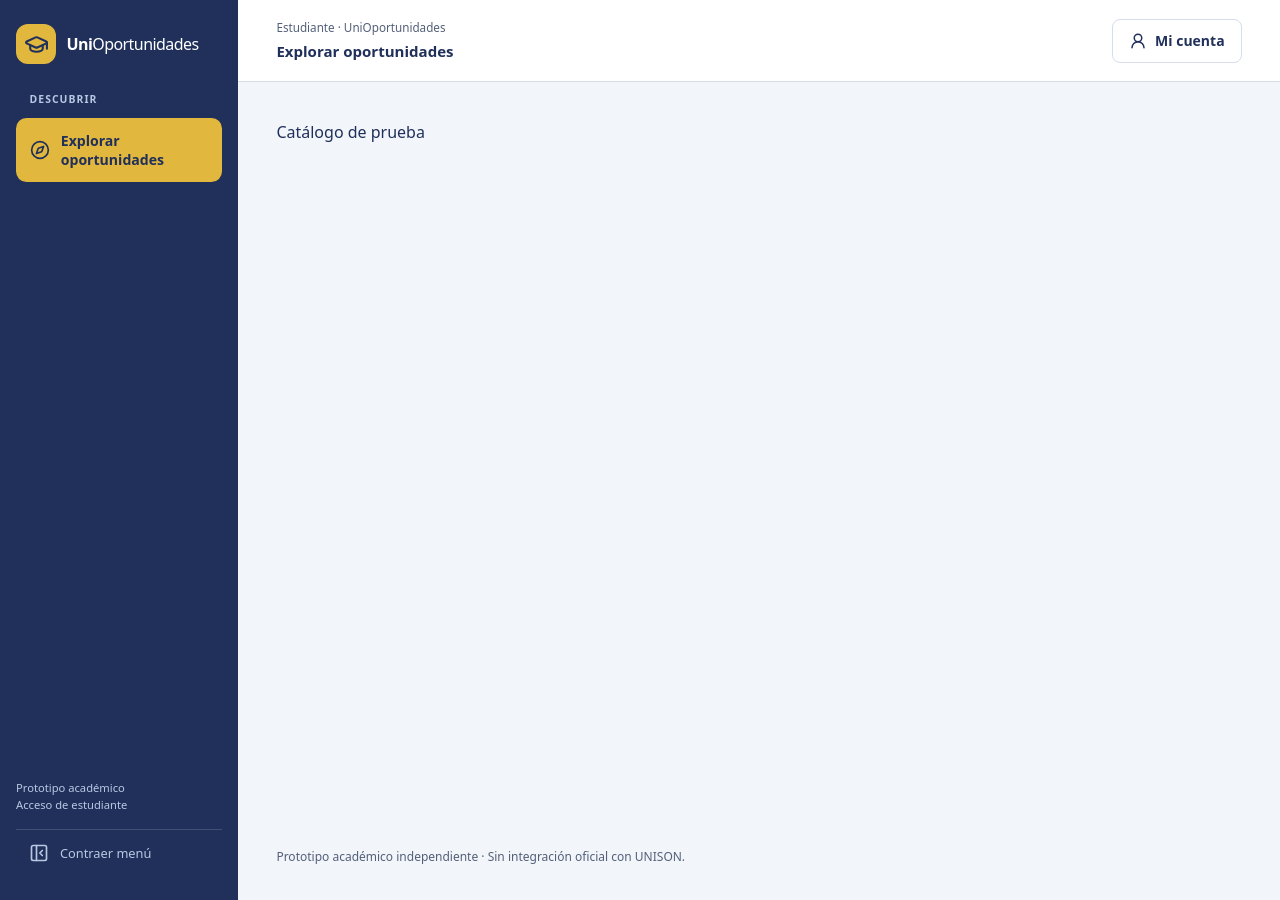
Scenario: un error al cerrar sesión se presenta dentro del menú de cuenta
Click the button "Mi cuenta": click(1177, 40) 1112,18 -> 1242,62
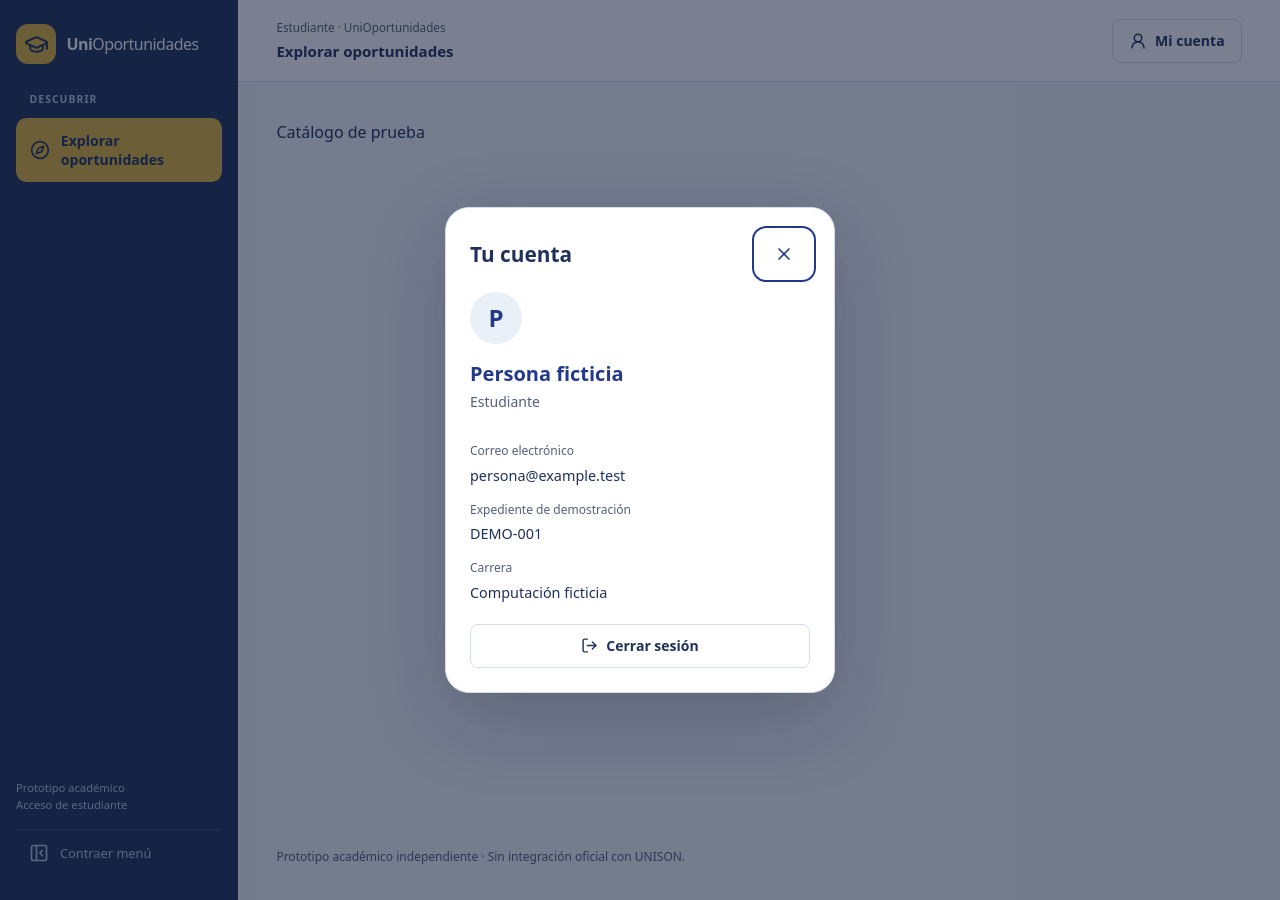
Click the button "Cerrar sesión": click(640, 646) 470,624 -> 810,668
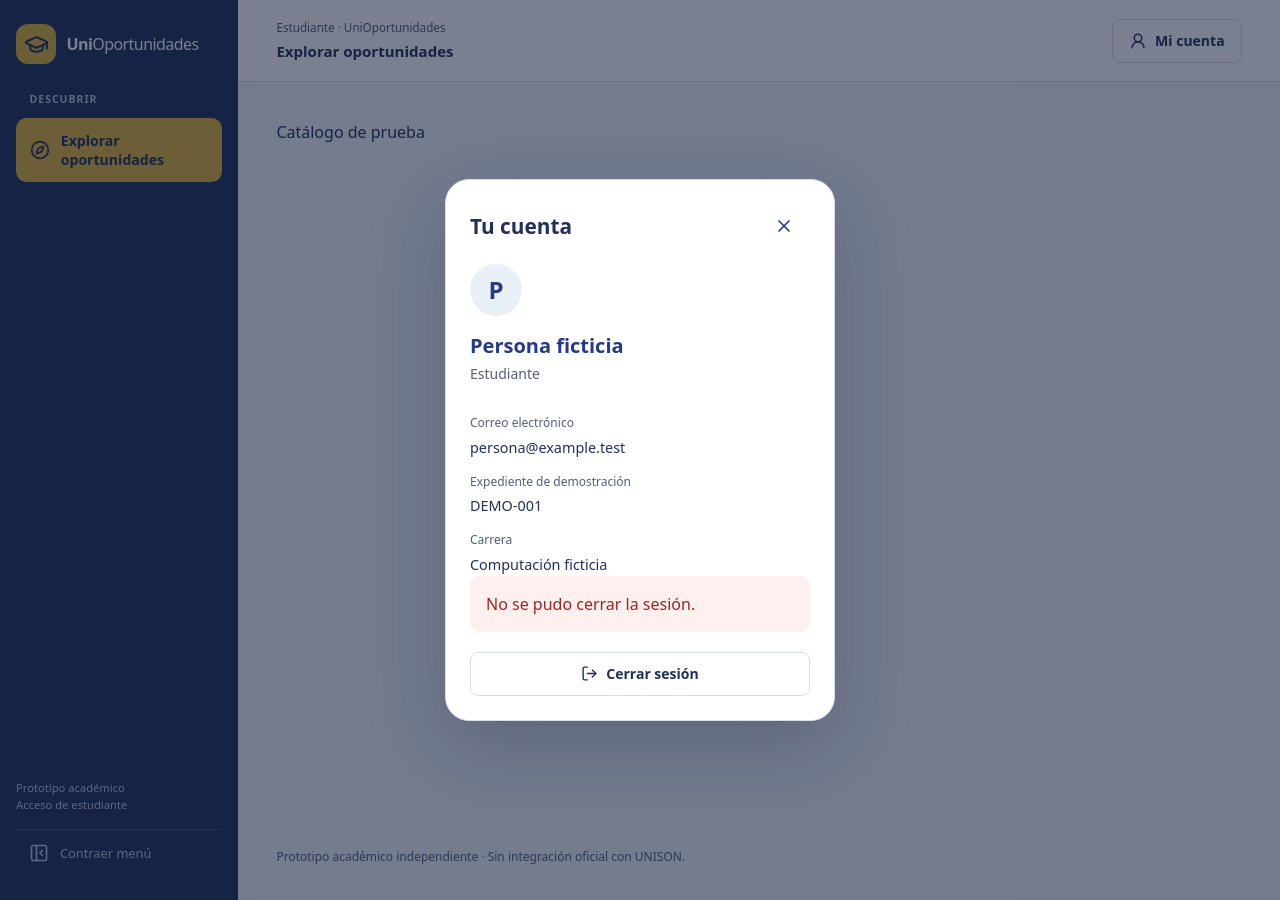
expect the message shows "No se pudo cerrar": met, box 486,593 -> 695,615
